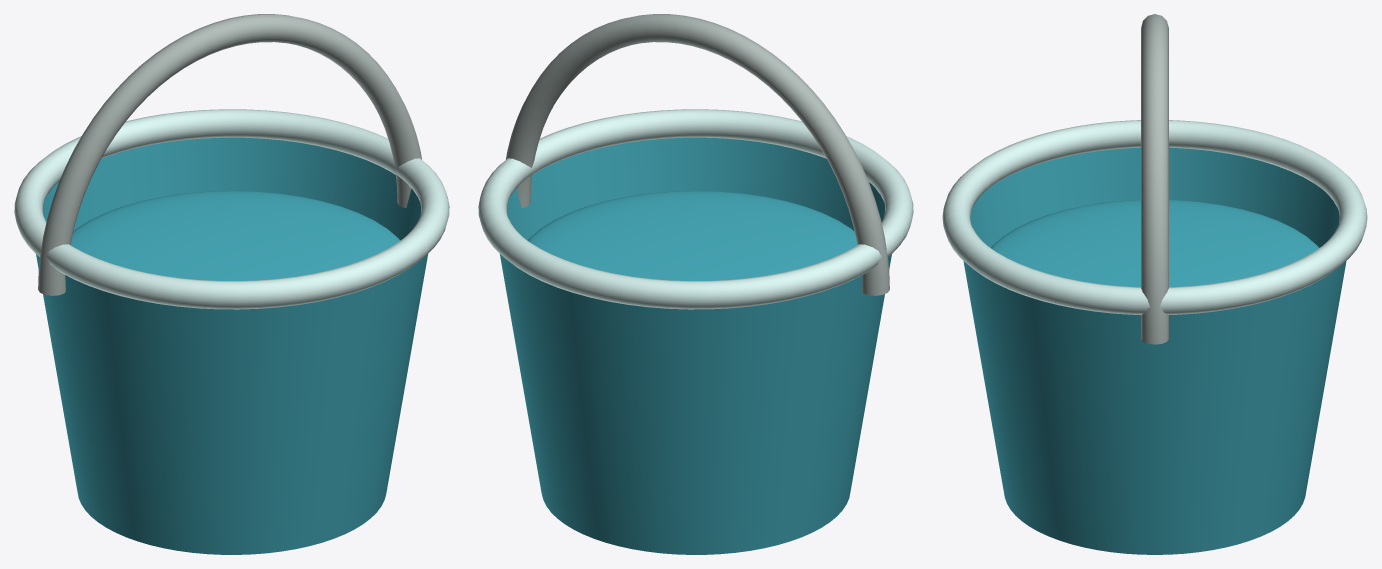
Rendered from material-water-bucket.glb.
3 views of the same model, side by side, from view 1: azimuth 30°, elevation 25°; view 2: azimuth 150°, elevation 25°; view 3: azimuth 270°, elevation 25° (orthographic). The views are drawn at different scales.
Parts seen in each view (by area): view 1: Bucket shell, Bucket rim, Water inside, Handle; view 2: Bucket shell, Bucket rim, Water inside, Handle; view 3: Bucket shell, Bucket rim, Water inside, Handle.
Boxes of the visible parts, <box> form: Bucket shell: <box>36,137,427,554</box>; Bucket rim: <box>14,109,449,309</box>; Water inside: <box>70,191,400,280</box>; Handle: <box>38,14,421,295</box>; Bucket shell: <box>500,137,891,554</box>; Bucket rim: <box>478,109,913,309</box>; Water inside: <box>527,191,857,280</box>; Handle: <box>506,14,889,295</box>; Bucket shell: <box>963,147,1346,554</box>; Bucket rim: <box>942,120,1367,314</box>; Water inside: <box>991,200,1318,287</box>; Handle: <box>1141,14,1168,344</box>.
Bounding box in the file's own units: 1.09 × 1.28 × 1.07.
